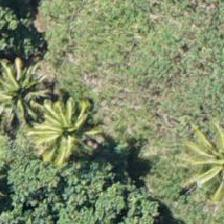coconut_tree: (8, 92, 98, 182), (0, 53, 69, 143)
